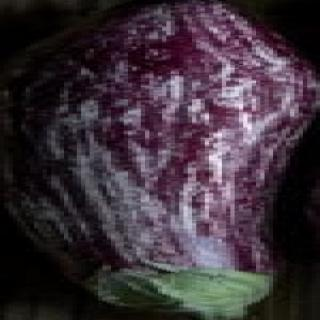eggplant: (4, 1, 320, 320)
